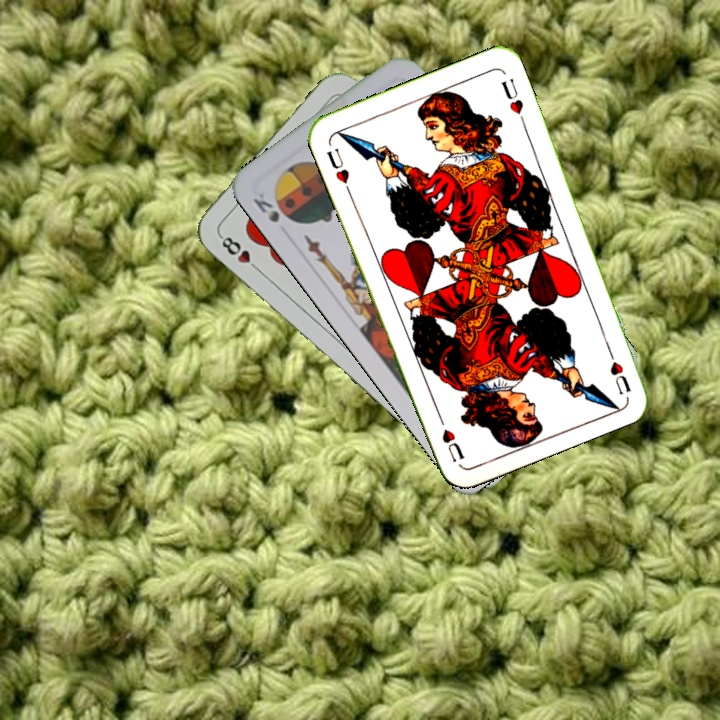H8: (215, 231, 264, 275)
HU: (602, 340, 633, 398), (322, 144, 352, 186)
SK: (249, 188, 282, 225)
